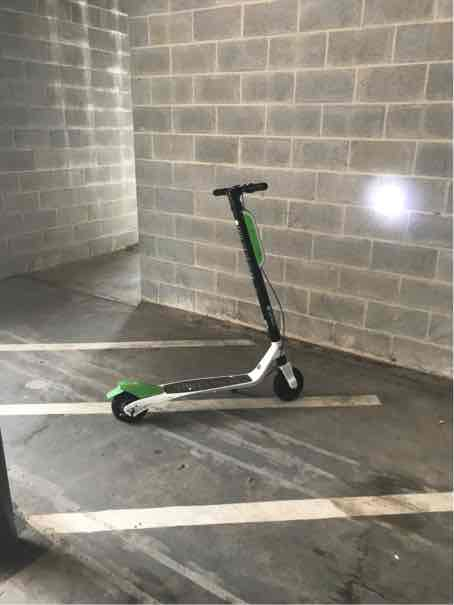scooter: (103, 168, 307, 425)
